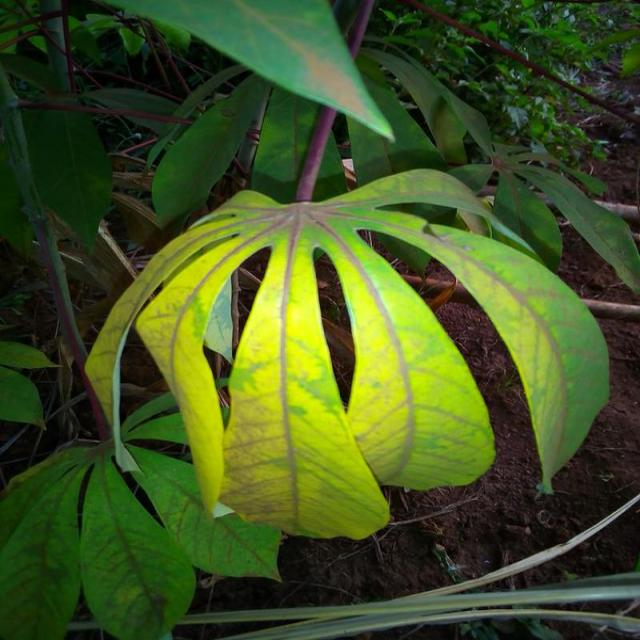cassava leaf: (84, 55, 610, 544)
